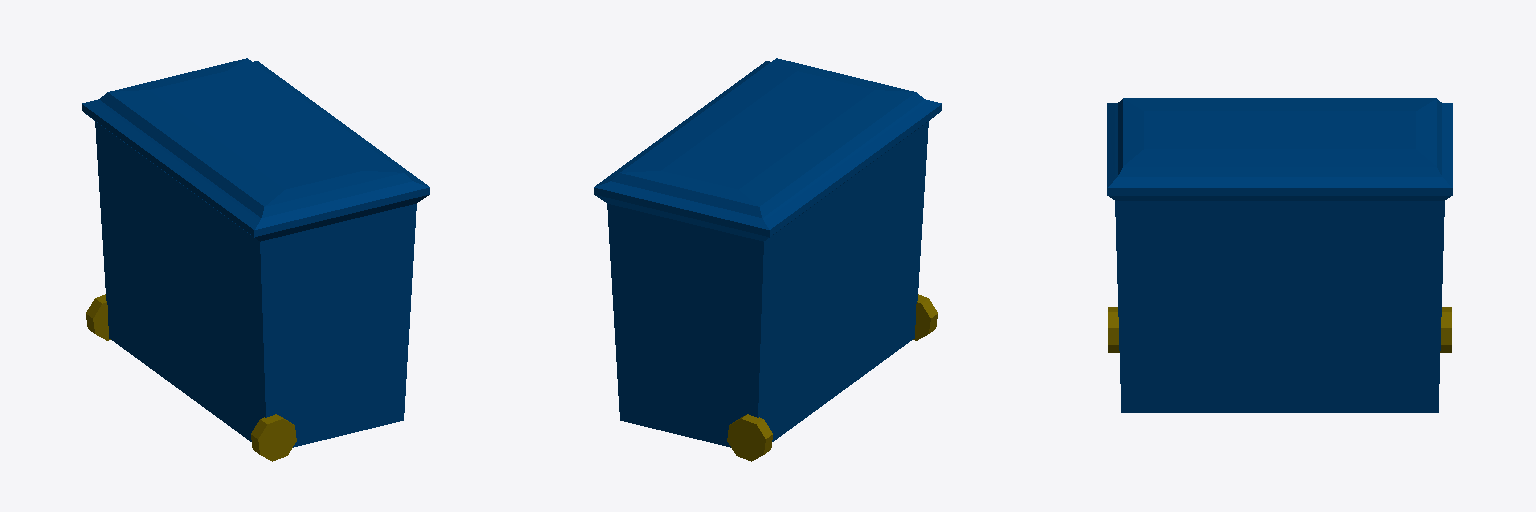
Rendered from Muelltonne_Lang.obj.
3 renders of one model, left to right at view 1: azimuth 30°, elevation 25°; view 2: azimuth 150°, elevation 25°; view 3: azimuth 270°, elevation 25°, orthographic.
Parts seen in each view (by area): view 1: Muelltonne_Lang1; view 2: Muelltonne_Lang1; view 3: Muelltonne_Lang1.
Part boxes in pixels (bbox=[...]): Muelltonne_Lang1: bbox=[82, 58, 429, 461]; Muelltonne_Lang1: bbox=[594, 58, 941, 461]; Muelltonne_Lang1: bbox=[1107, 98, 1452, 412].
Bounding box in the file's own units: 75.59 × 103 × 129.